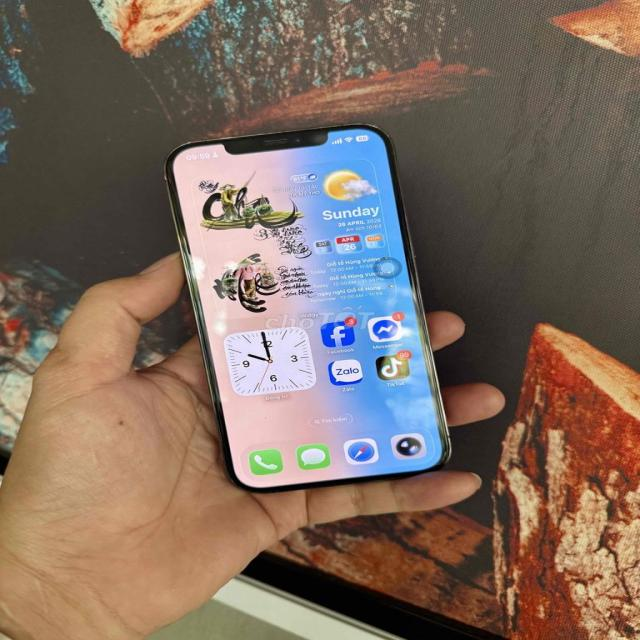gen_12_13: (162, 123, 457, 493)
